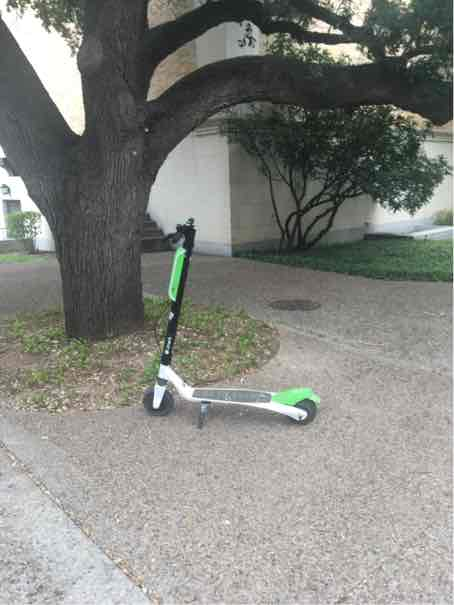scooter: (132, 211, 329, 433)
